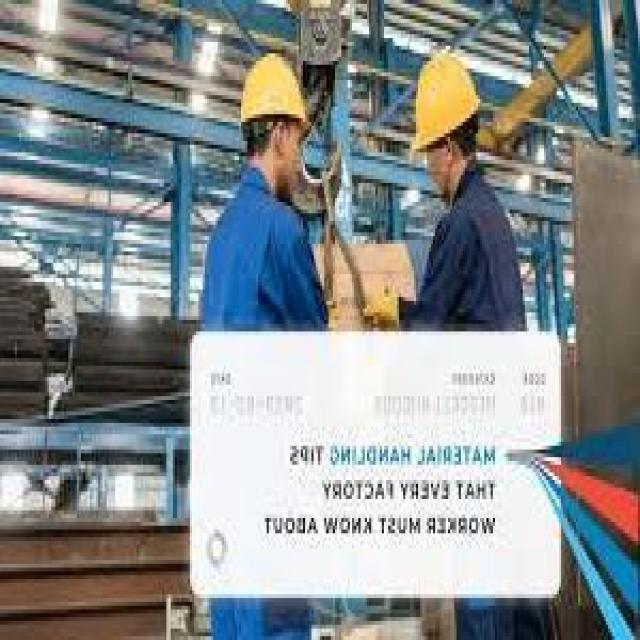Safety-Helmet: (406, 46, 484, 156), (232, 46, 318, 141)
